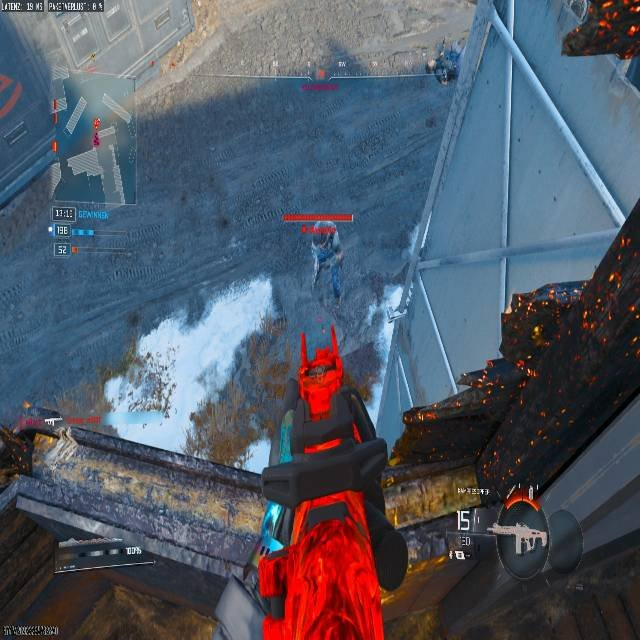player: (310, 226, 342, 300)
